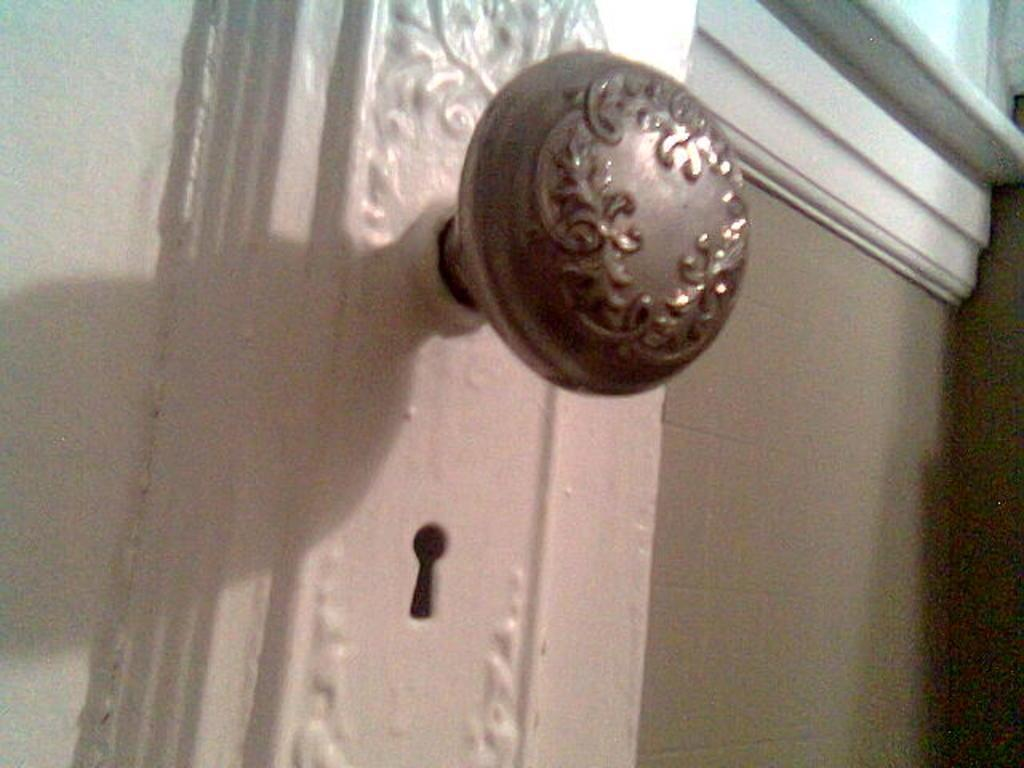handle: (403, 42, 759, 400)
